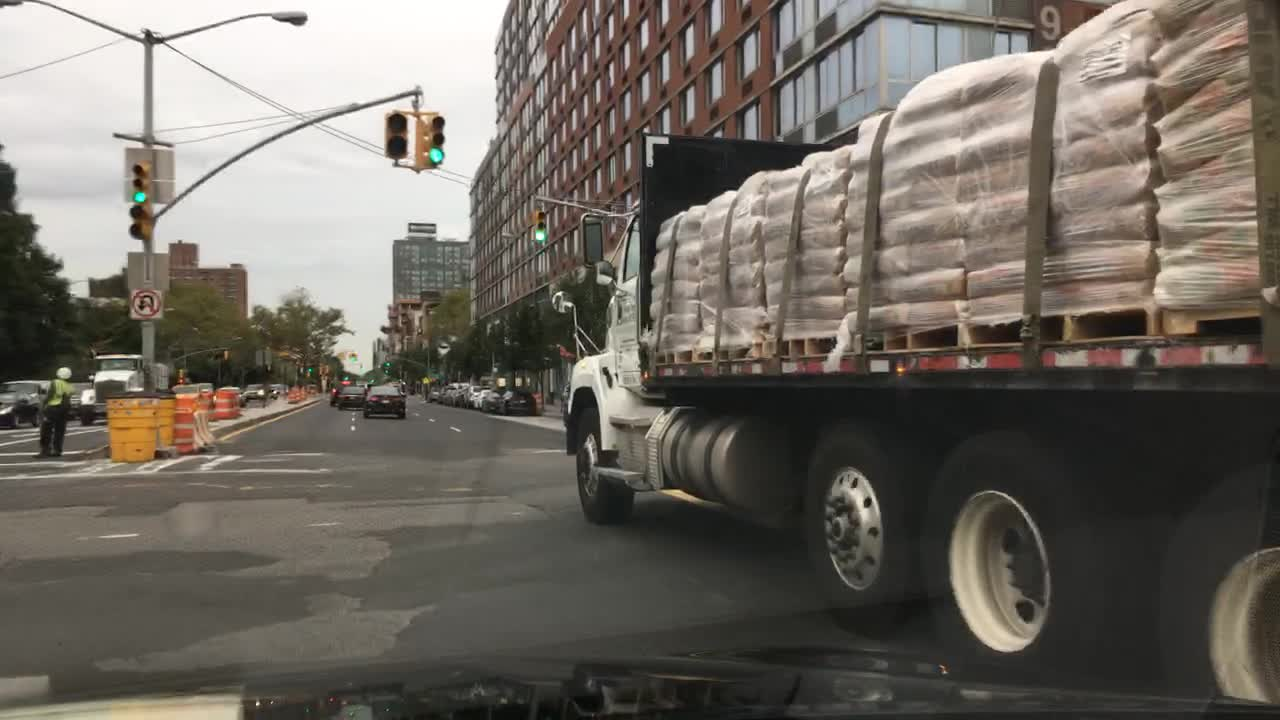car: (0, 379, 45, 428), (362, 382, 411, 417), (47, 379, 92, 417), (503, 388, 536, 416), (326, 378, 349, 407), (209, 388, 244, 407), (480, 386, 503, 414), (384, 378, 409, 402), (34, 381, 52, 412), (243, 379, 265, 400), (466, 386, 484, 411), (454, 386, 472, 409), (269, 383, 290, 399), (190, 379, 211, 393), (353, 378, 375, 390), (424, 386, 442, 400), (440, 386, 454, 404), (302, 383, 318, 395)
person: (33, 367, 77, 462)
traffic light: (383, 111, 409, 159), (128, 163, 156, 201), (414, 112, 431, 173), (430, 109, 446, 166), (126, 205, 150, 240), (530, 210, 545, 243), (173, 369, 187, 386), (218, 345, 229, 362), (382, 355, 393, 369), (304, 361, 314, 375), (347, 347, 354, 361)
traffic sign: (123, 149, 177, 180), (126, 250, 168, 289), (119, 177, 173, 206), (126, 290, 167, 320), (253, 346, 274, 365), (426, 368, 444, 379), (414, 373, 430, 383)
truck: (551, 0, 1276, 706), (80, 354, 170, 426)
